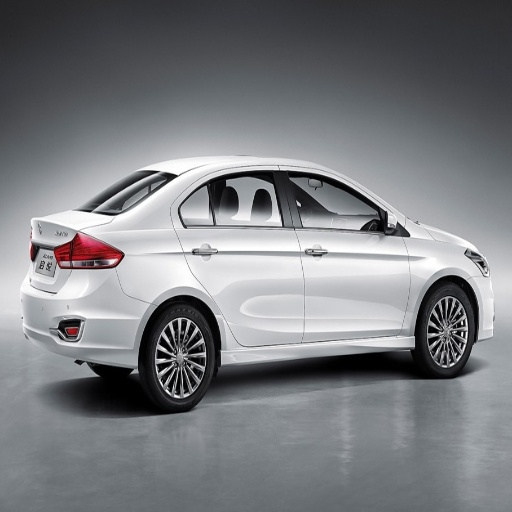back_bumper: (19, 268, 151, 366)
back_right_door: (176, 168, 302, 349)
front_right_door: (285, 169, 410, 342)
